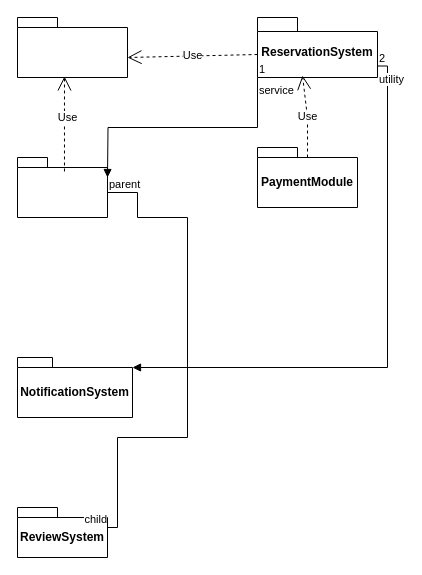
This 422x575 diagram has some shape labels left out. Here are the shapes that lost their labels. From the top down, the centre of each, then its label:
At point (72, 47): "UserManagement".
At point (62, 187): "ListingService".
